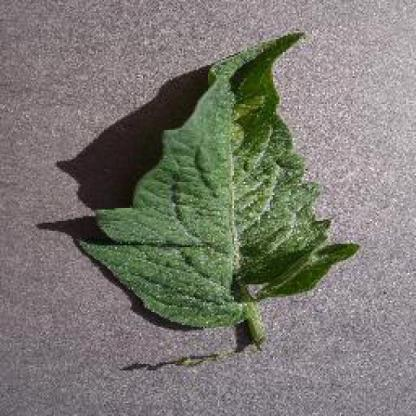Tomato_Spider_Mites: (78, 33, 357, 328)
